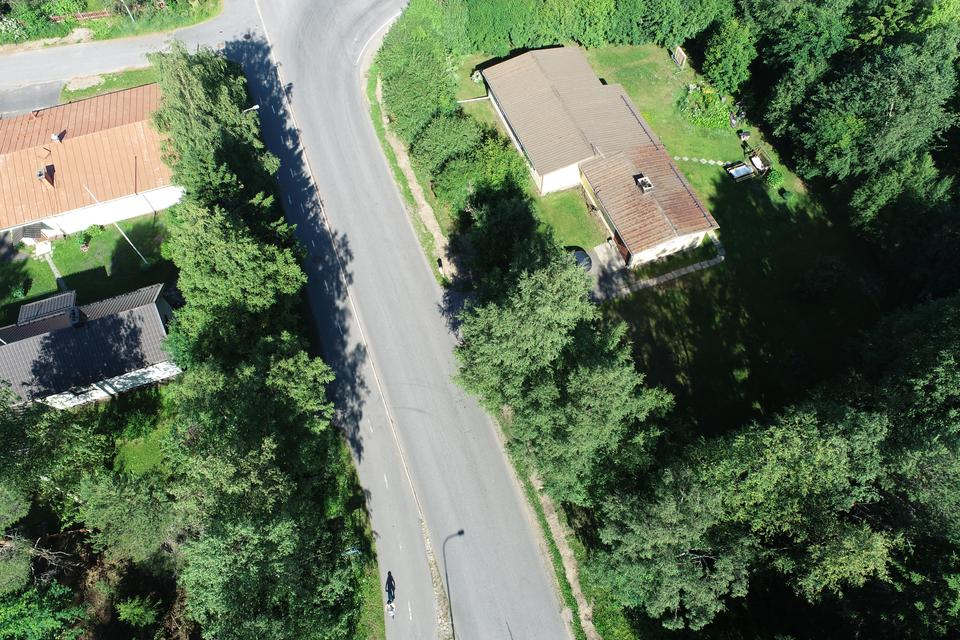intersection: (168, 0, 441, 119)
